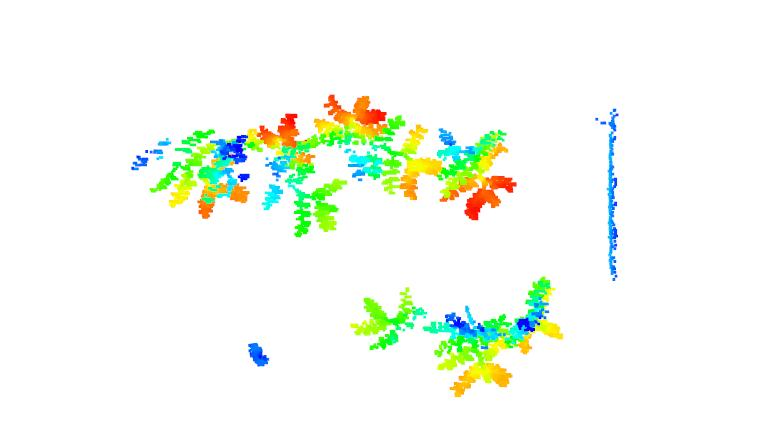chickpea: (316, 91, 443, 204), (129, 122, 253, 220), (256, 109, 342, 241), (431, 123, 518, 224), (428, 302, 516, 401), (353, 285, 430, 350), (508, 274, 565, 358)
